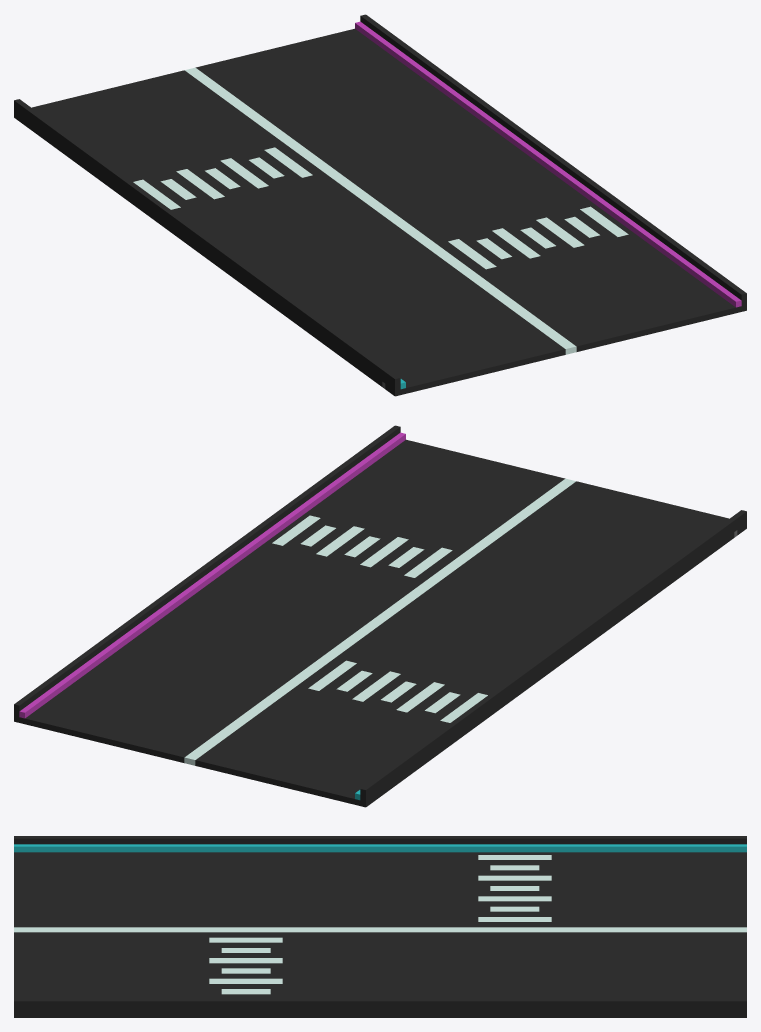
File: SM_Road_5.fbx
3 views of the same model, one above another, from view 1: azimuth 30°, elevation 25°; view 2: azimuth 150°, elevation 25°; view 3: azimuth 270°, elevation 25° (orthographic). The views are drawn at different scales.
Visible parts, largest first — view 1: Road_5; view 2: Road_5; view 3: Road_5.
Boxes of the visible parts, bbox=[...] form: Road_5: bbox=[14, 14, 746, 396]; Road_5: bbox=[14, 425, 746, 807]; Road_5: bbox=[14, 836, 746, 1017].
Bounding box in the file's own units: 1280 × 60 × 2400.
3 materials, 1 textured.
